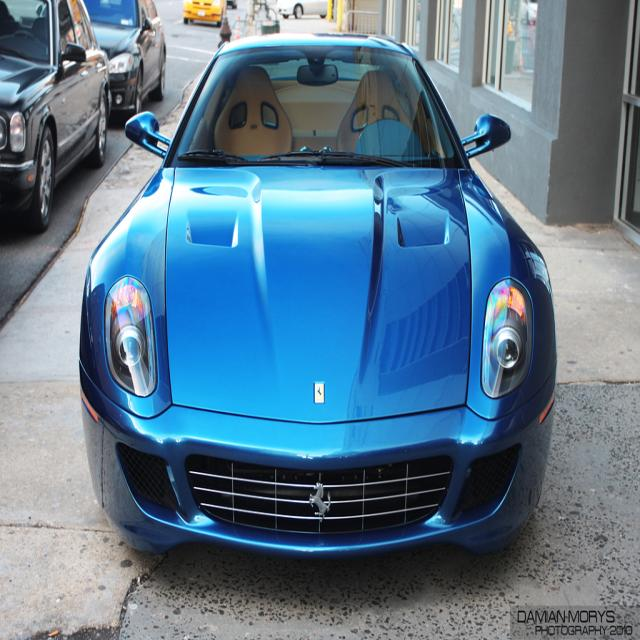car: (63, 21, 561, 611)
